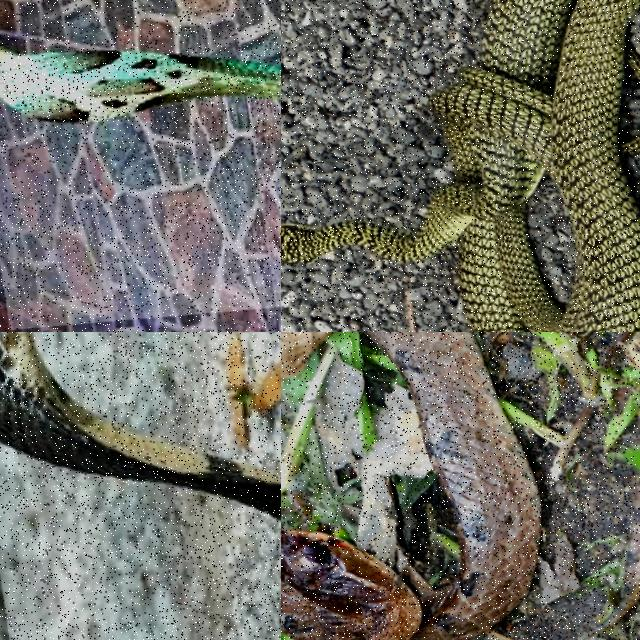Calloselasma rhodostoma: (281, 332, 541, 639)
Chrysopelea ornata: (281, 0, 639, 331)
Naja kaouthia: (0, 48, 280, 122)
Naja siamensis: (0, 332, 280, 521)
